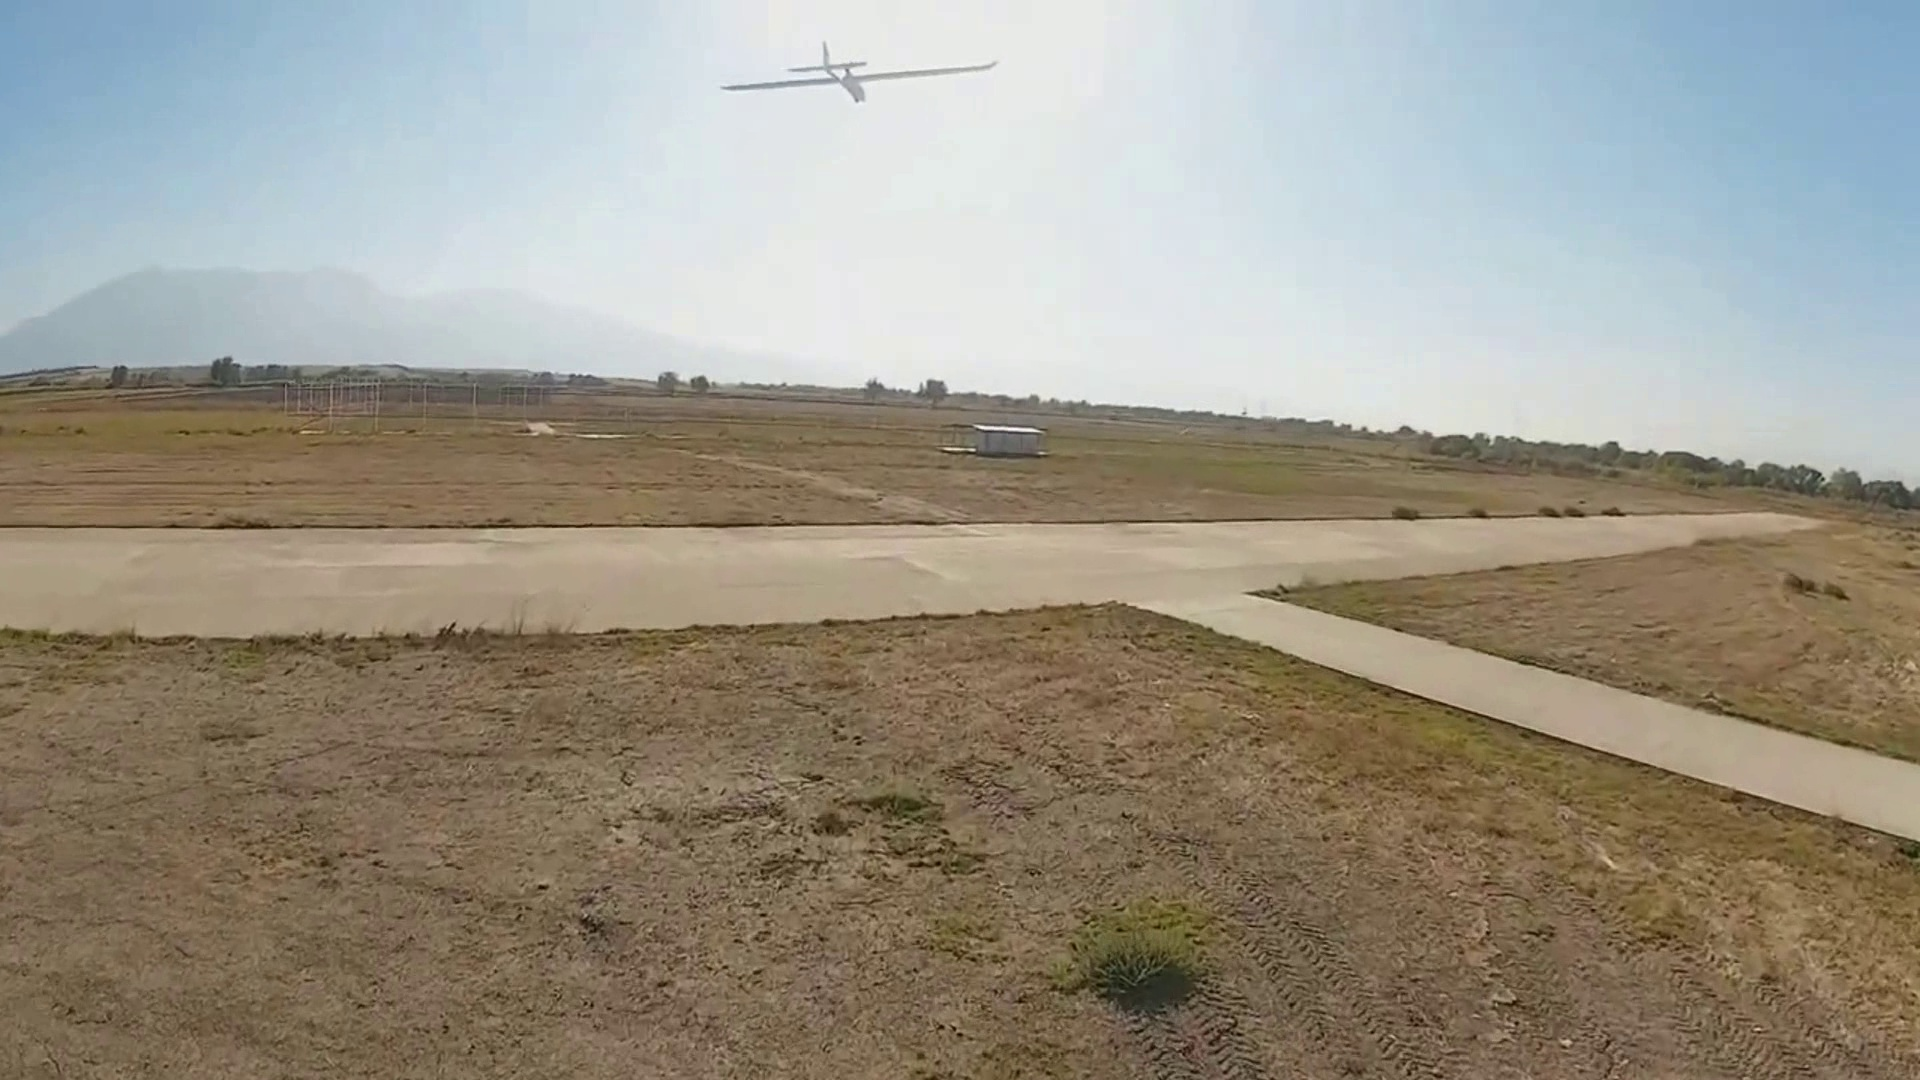airplane: (721, 40, 999, 106)
